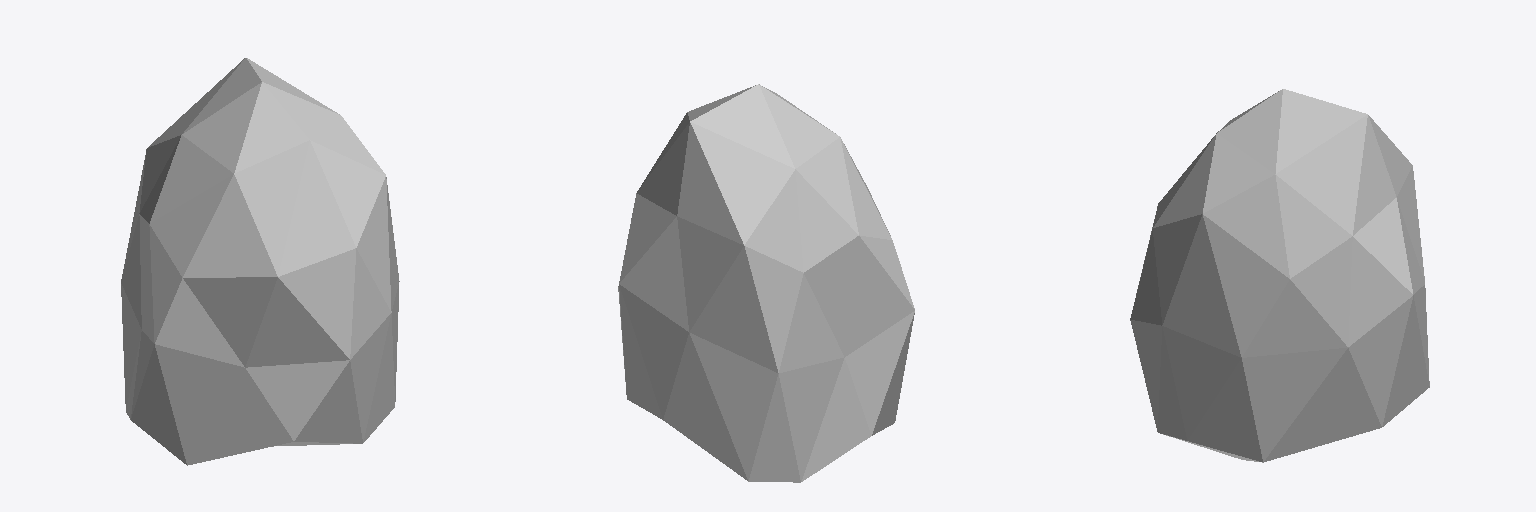
File: treetop2.obj
The picture shows the model from 3 angles: view 1: azimuth 30°, elevation 25°; view 2: azimuth 150°, elevation 25°; view 3: azimuth 270°, elevation 25°; orthographic projection.
Bounding box in the file's own units: 1.6 × 2.1 × 1.67.